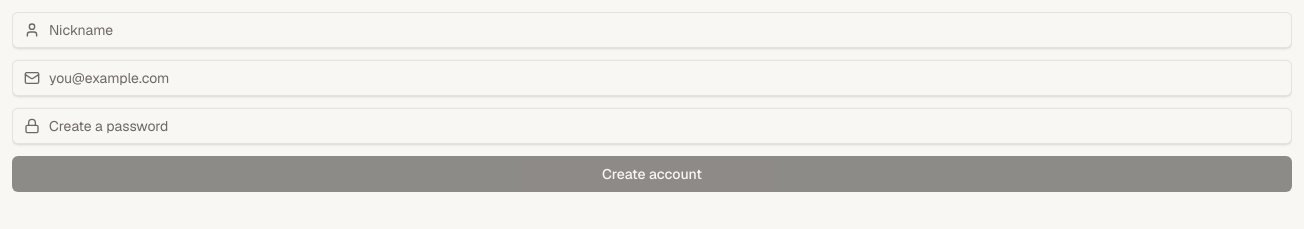
SignUpForm › shows an already-registered message and does not advance
Type "alice_99" into the field with placeholder "Nickname" at (652, 30), box [12, 12, 1292, 48]
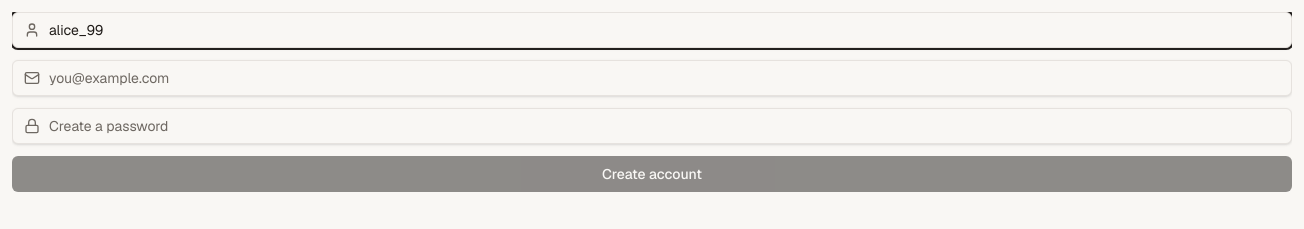
Type "alice@b.com" into the field with placeholder "you@example.com" at (652, 78), box [12, 60, 1292, 96]
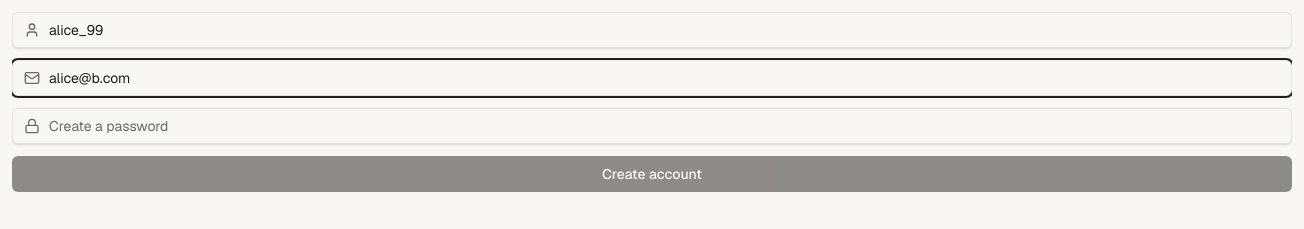
Type "Abcdef12345!" into the password field with placeholder "Create a password" at (652, 126), box [12, 108, 1292, 144]
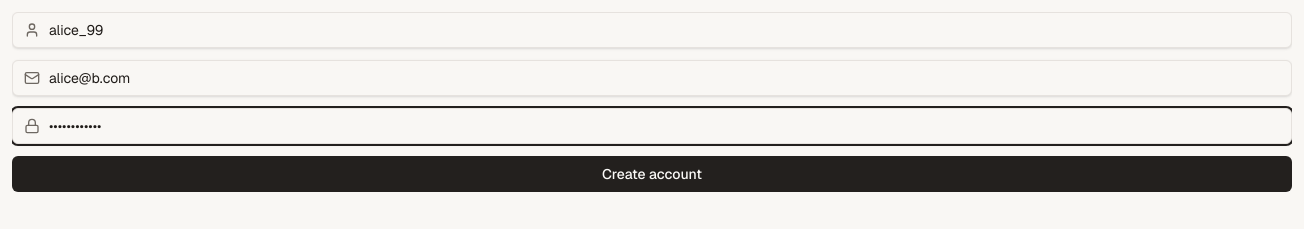
Click the button "Create account" at (652, 174), box [12, 156, 1292, 192]
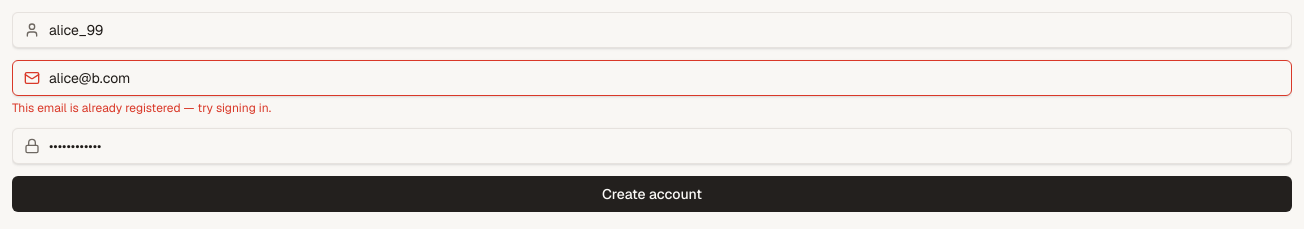
Expected: the message shows "already registered", [12, 100, 271, 116]
